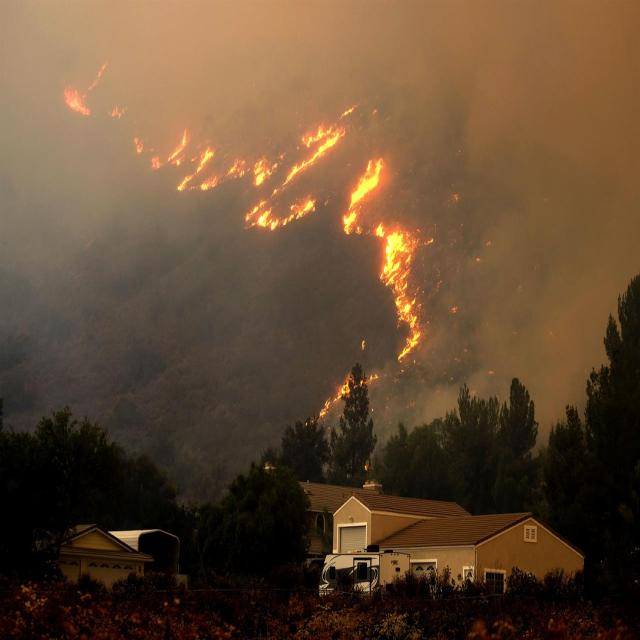Fire: (58, 57, 444, 435)
Smoke: (0, 0, 639, 456)
